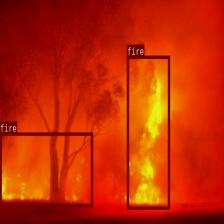fire: (0, 132, 92, 206), (126, 55, 170, 209)
